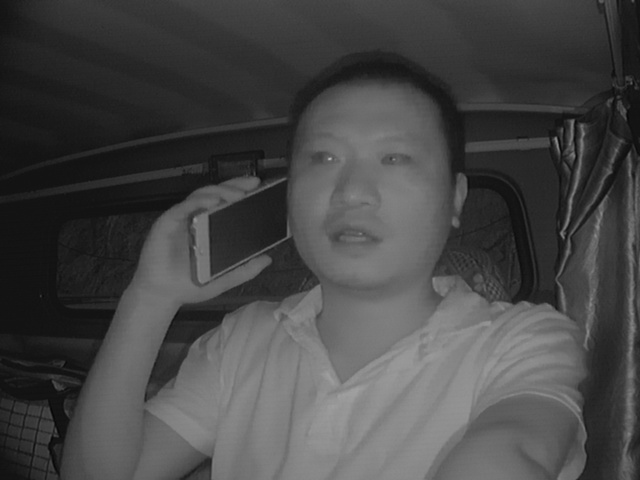hand: (137, 175, 275, 304)
